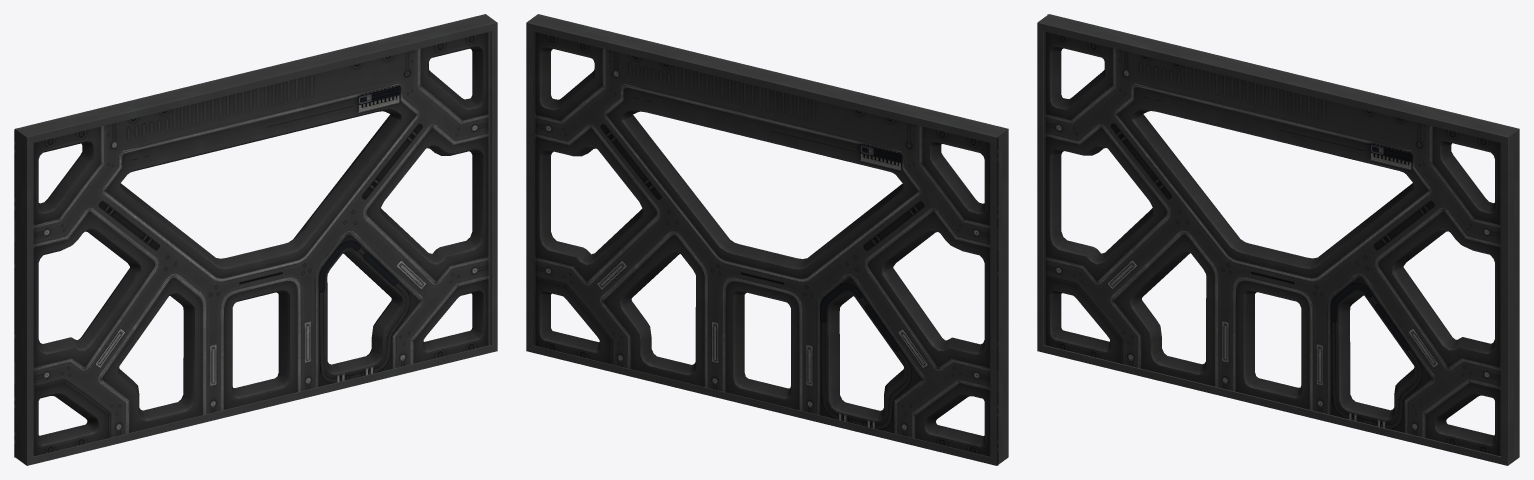
File: Panel_C_Holes_1.FBX
3 views of the same model, side by side, from view 1: azimuth 30°, elevation 25°; view 2: azimuth 150°, elevation 25°; view 3: azimuth 330°, elevation 25° (orthographic).
Visible parts, largest first — view 1: Panel_C_Holes_1; view 2: Panel_C_Holes_1; view 3: Panel_C_Holes_1.
Boxes of the visible parts, left/top/right/bottom form: Panel_C_Holes_1: left=14, top=14, right=497, bottom=465; Panel_C_Holes_1: left=526, top=14, right=1008, bottom=465; Panel_C_Holes_1: left=1037, top=14, right=1519, bottom=465.
Size of the model in its own units: 301 by 200 by 13.23.
